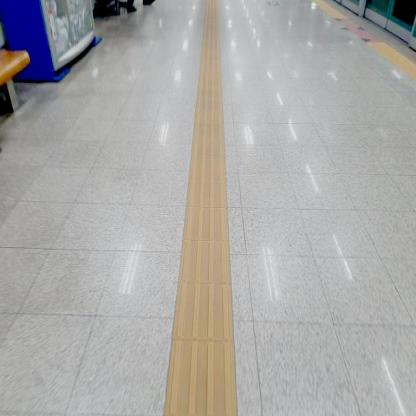podotacti: (164, 0, 238, 414)
